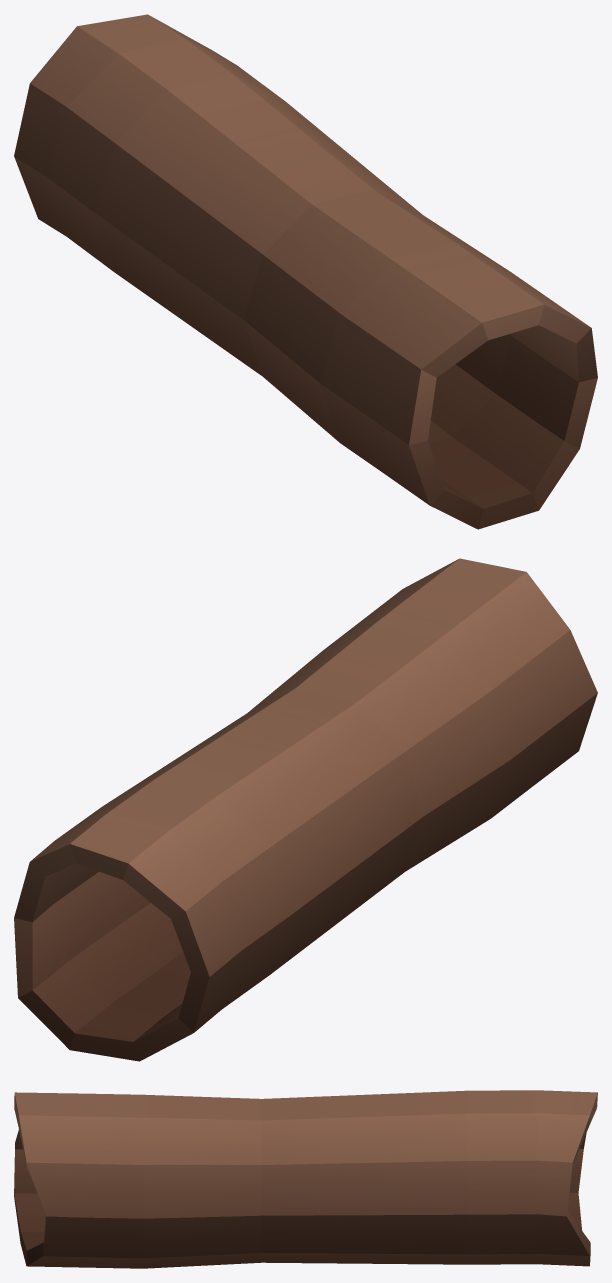
File: kłoda5.fbx
3 renders of one model, top to bottom at view 1: azimuth 30°, elevation 25°; view 2: azimuth 150°, elevation 25°; view 3: azimuth 270°, elevation 25°, orthographic. The views are drawn at different scales.
Parts seen in each view (by area): view 1: kłoda5; view 2: kłoda5; view 3: kłoda5.
Part boxes in pixels (x1,y1,x2,y2): kłoda5: (14, 14, 597, 529); kłoda5: (14, 558, 597, 1061); kłoda5: (14, 1090, 597, 1268).
Size of the model in its own units: 200 by 196 by 666.
